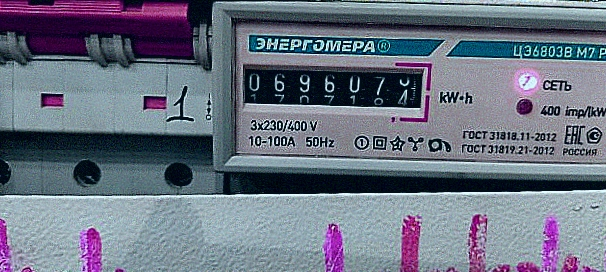0: (346, 72, 362, 94), (246, 71, 261, 92)
4: (395, 86, 409, 108)
6: (271, 71, 286, 92), (321, 73, 336, 93)
7: (371, 75, 387, 96)
9: (296, 72, 310, 93)
screen: (228, 53, 436, 120)
